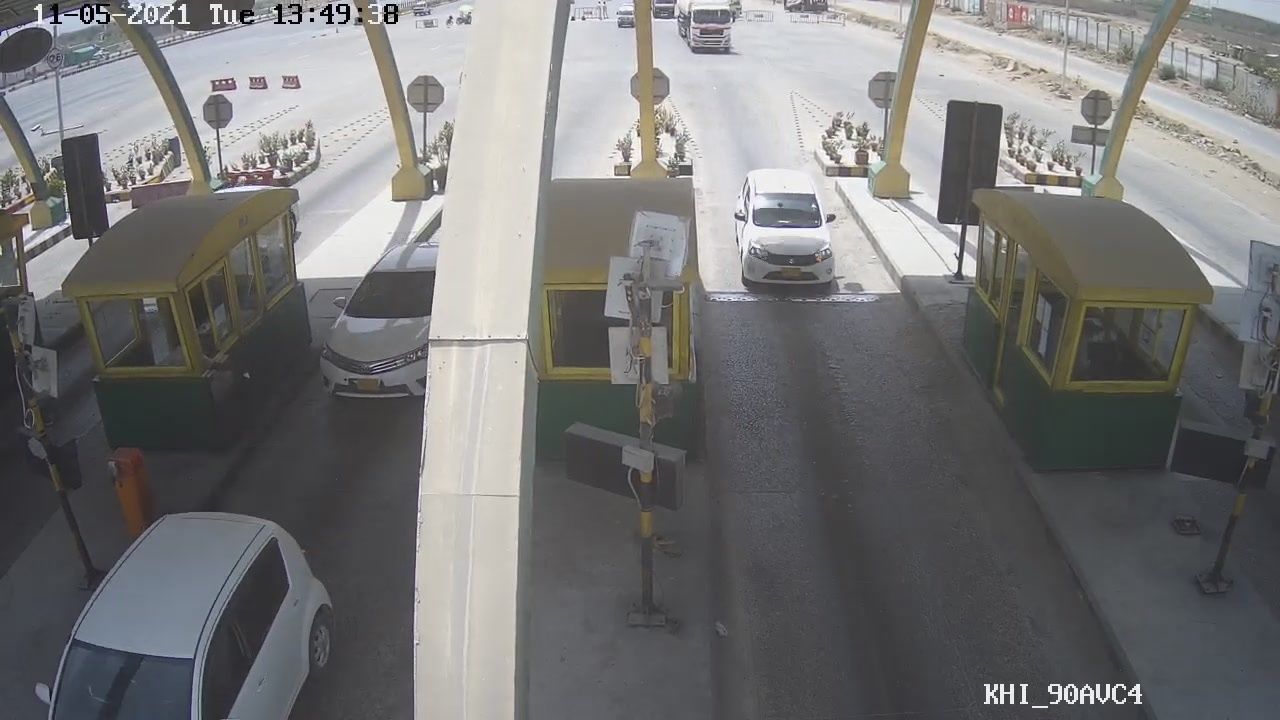F1: (725, 168, 848, 309)
